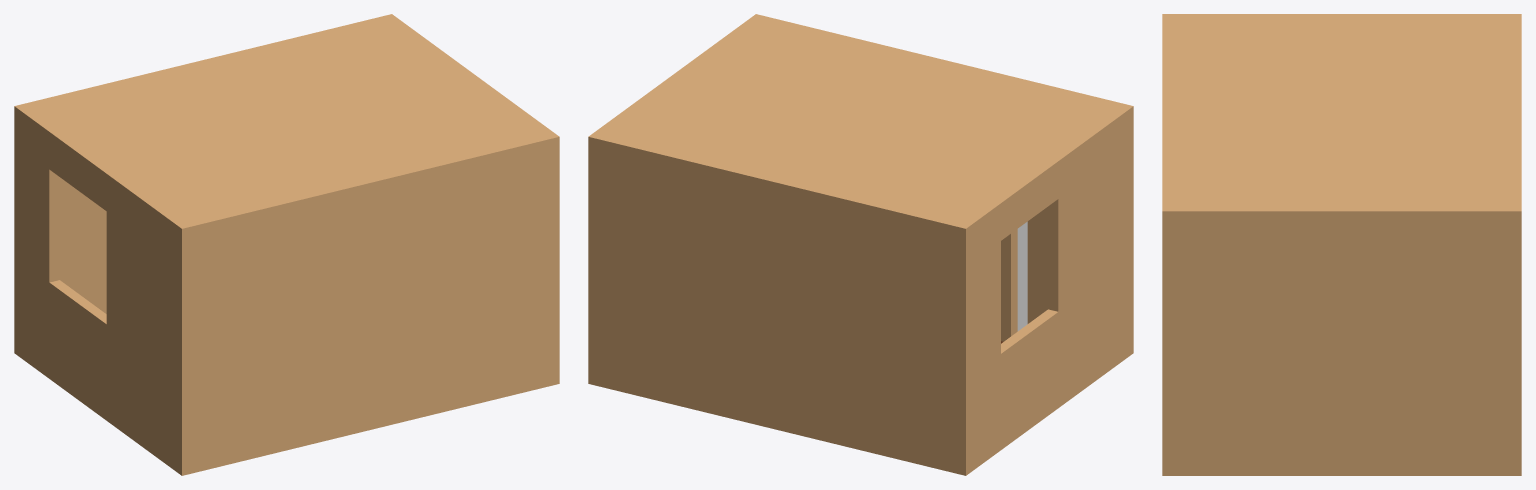
The model's file is S_CouloirU2.glb.
The picture shows the model from 3 angles, left to right: view 1: azimuth 30°, elevation 25°; view 2: azimuth 150°, elevation 25°; view 3: azimuth 270°, elevation 25°; orthographic projection. The views are drawn at different scales.
Visible parts, largest first — view 1: murAvecFenetre, Plane.005; view 2: murAvecFenetre, Plane.005, Plane.008, Cube.001, Plane.009; view 3: murAvecFenetre, Plane.005.
Part boxes in pixels (bbox=[...]): murAvecFenetre: bbox=[14, 14, 559, 475]; Plane.005: bbox=[31, 21, 542, 221]; murAvecFenetre: bbox=[588, 14, 1133, 475]; Plane.005: bbox=[605, 21, 1116, 221]; Plane.008: bbox=[974, 95, 1013, 341]; Cube.001: bbox=[1017, 221, 1027, 331]; Plane.009: bbox=[964, 81, 1017, 341]; murAvecFenetre: bbox=[1162, 14, 1521, 475]; Plane.005: bbox=[1176, 19, 1507, 205].
Bounding box in the file's own units: 4.23 × 2.65 × 3.25.
